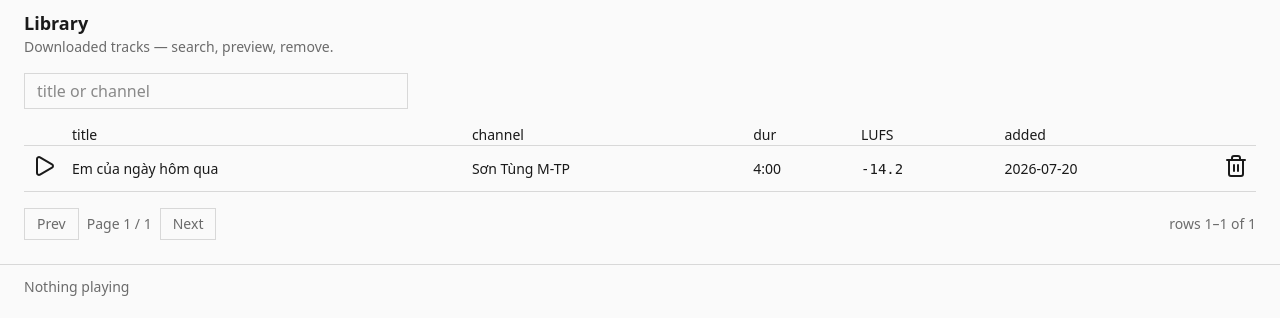
Library › stops the transport when the playing track is deleted
Check: the text "Em của ngày hôm qua" is shown, box [64,146,464,192]
Click the button named "Play Em của ngày hôm qua" at (44, 166), box [32,154,56,178]
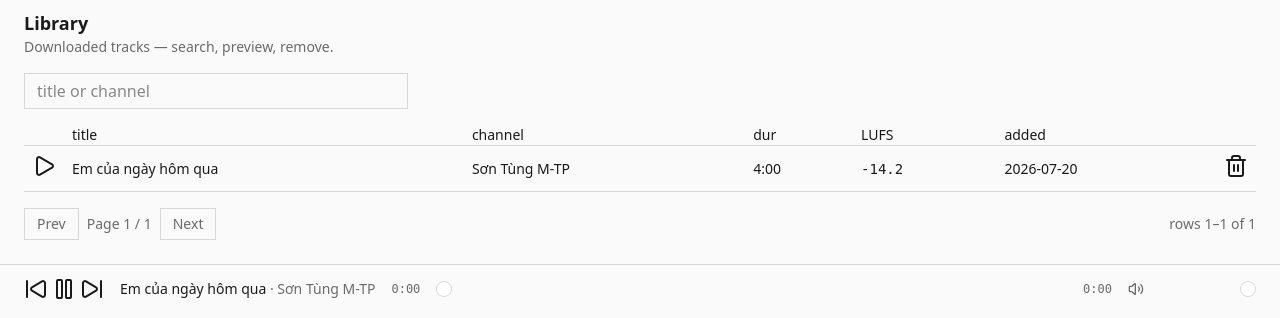
Check: the button named "Pause" is shown, box [52,277,76,301]
Click the button named "Delete Em của ngày hôm qua" at (1236, 166), box [1224,154,1248,178]
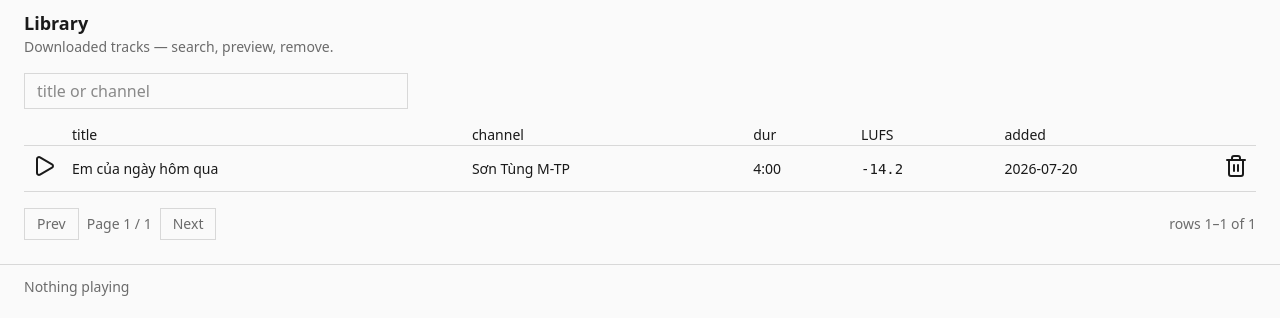
Check: the text "Nothing playing" is shown, box [24,277,129,297]
Check: the button labelled "Pause" is gone
